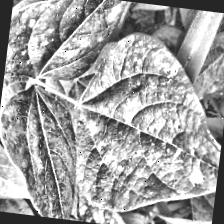Bean Rust: (65, 32, 224, 222), (0, 82, 90, 220), (3, 0, 127, 94)
